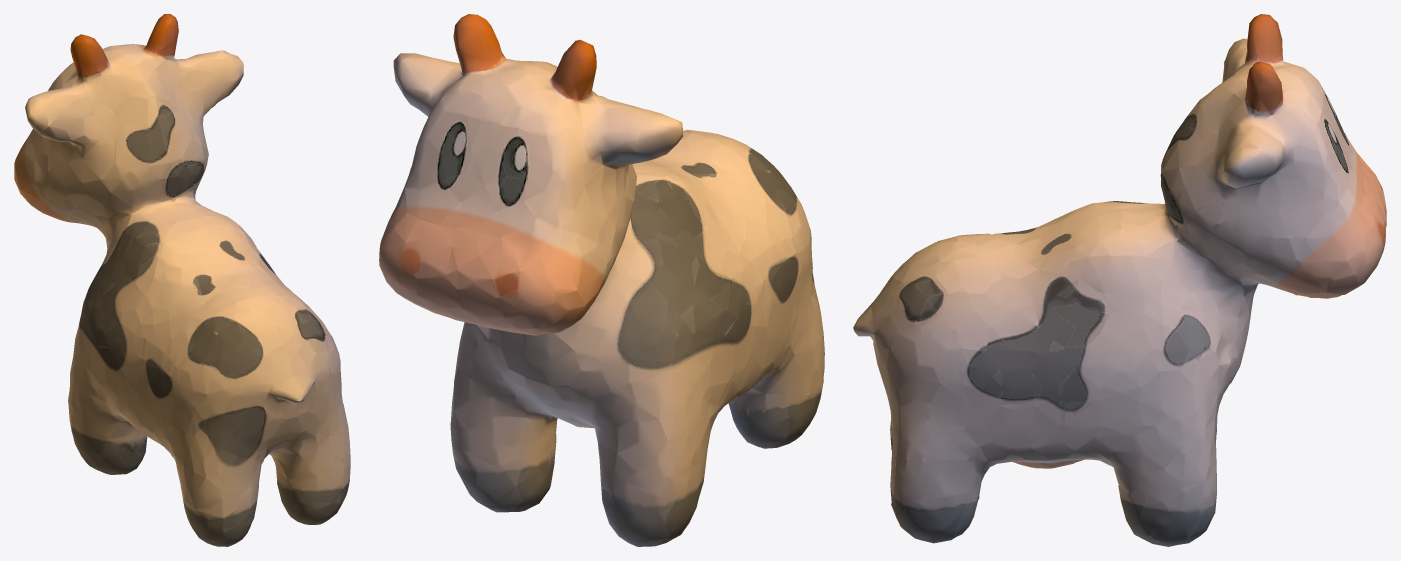
The picture shows the model from 3 angles, left to right: view 1: azimuth 30°, elevation 25°; view 2: azimuth 150°, elevation 25°; view 3: azimuth 270°, elevation 25°; orthographic projection. The views are drawn at different scales.
Parts seen in each view (by area): view 1: pMesh1; view 2: pMesh1; view 3: pMesh1.
Boxes of the visible parts, x1,y1,x2,y2 form: pMesh1: (14,14,350,546); pMesh1: (379,14,824,546); pMesh1: (853,14,1386,546).
Size of the model in its own units: 0.9434 by 1.69 by 1.72.
1 material, 1 textured.
